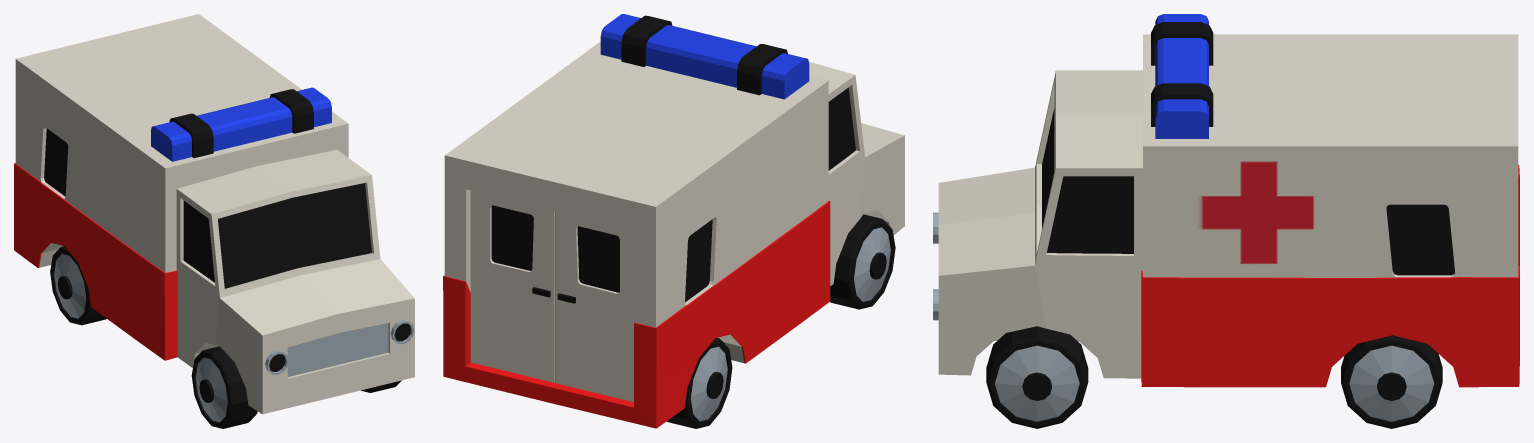
Rendered from rtw.fbx.
3 renders of one model, left to right at view 1: azimuth 30°, elevation 25°; view 2: azimuth 150°, elevation 25°; view 3: azimuth 270°, elevation 25°, orthographic. The views are drawn at different scales.
Visible parts, largest first — view 1: Cube; view 2: Cube; view 3: Cube.
Part boxes in pixels (left/top/right/bottom): Cube: left=14, top=14, right=414, bottom=428; Cube: left=443, top=14, right=904, bottom=428; Cube: left=933, top=14, right=1519, bottom=428.
Bounding box in the file's own units: 2.05 × 2.64 × 4.43.
Materials: 2 (2 with a texture image).
